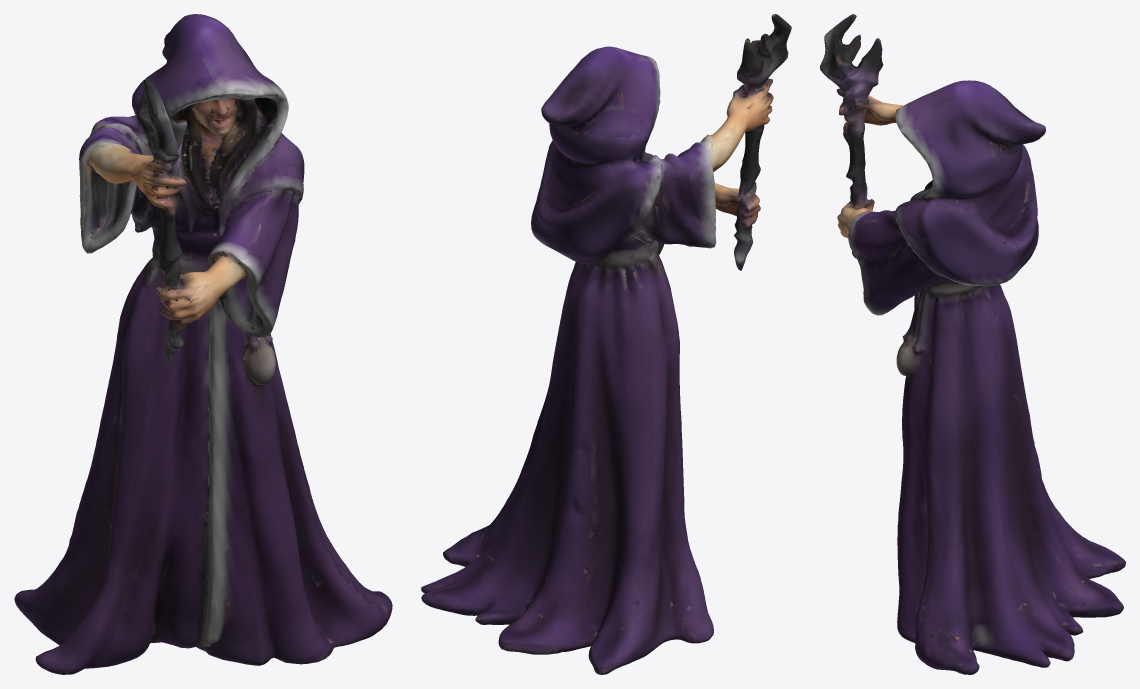
Rendered from Norvix_final.glb.
The picture shows the model from 3 angles, left to right: view 1: azimuth 30°, elevation 25°; view 2: azimuth 150°, elevation 25°; view 3: azimuth 270°, elevation 25°; orthographic projection. The views are drawn at different scales.
Parts seen in each view (by area): view 1: Mesh1.0; view 2: Mesh1.0; view 3: Mesh1.0.
Boxes of the visible parts, left/top/right/bottom form: Mesh1.0: left=14, top=14, right=392, bottom=674; Mesh1.0: left=421, top=14, right=791, bottom=674; Mesh1.0: left=820, top=14, right=1125, bottom=674.
Size of the model in its own units: 0.8927 by 1.7 by 0.8752.
Materials: 1 (1 with a texture image).
